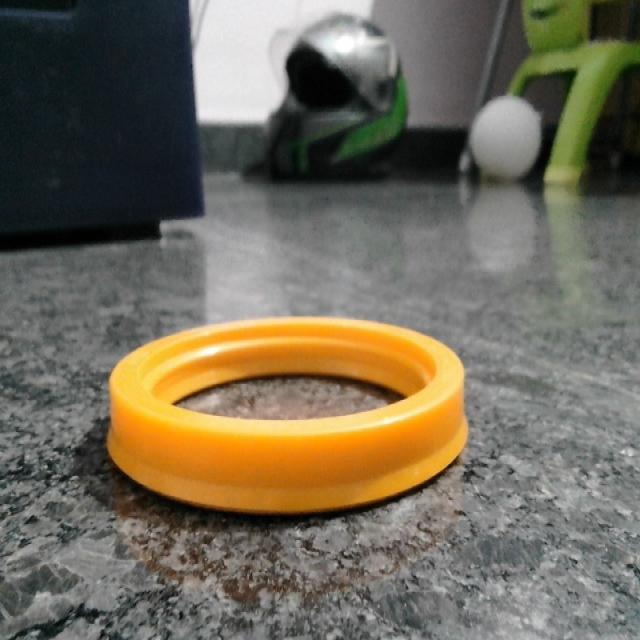orange-L-ring: (108, 317, 468, 513)
